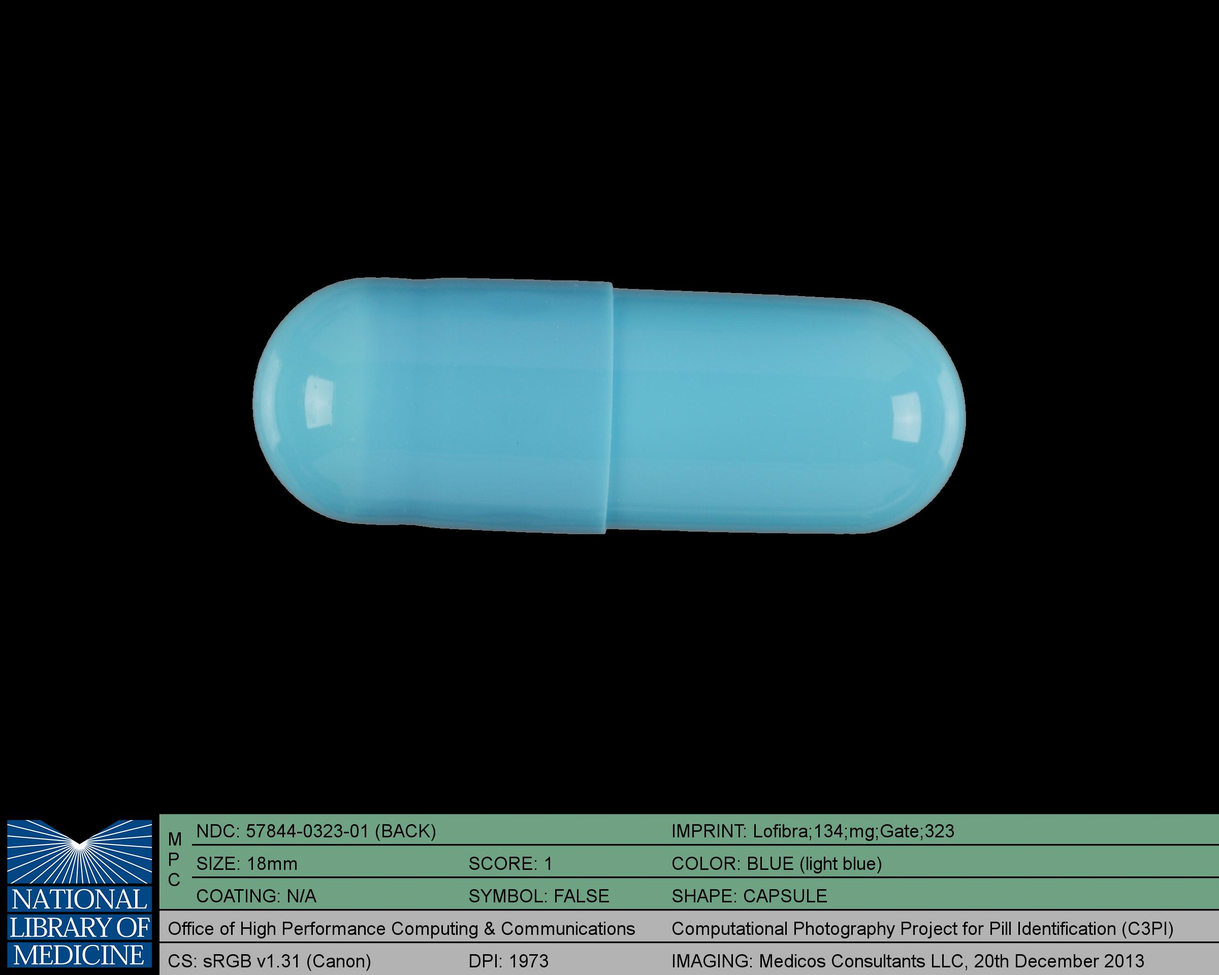Pill: (239, 261, 979, 552)
